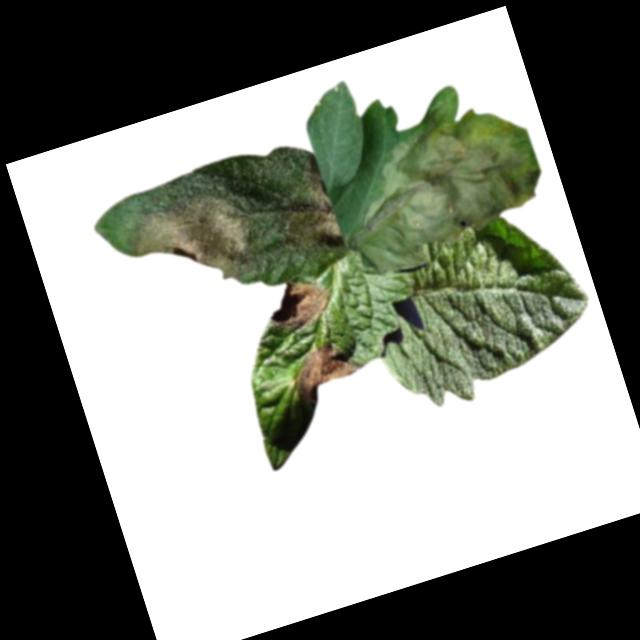Late_blight: (321, 67, 555, 277), (112, 159, 265, 309), (260, 147, 346, 265), (282, 334, 369, 410), (257, 270, 340, 342)
healthy: (352, 198, 607, 424)
